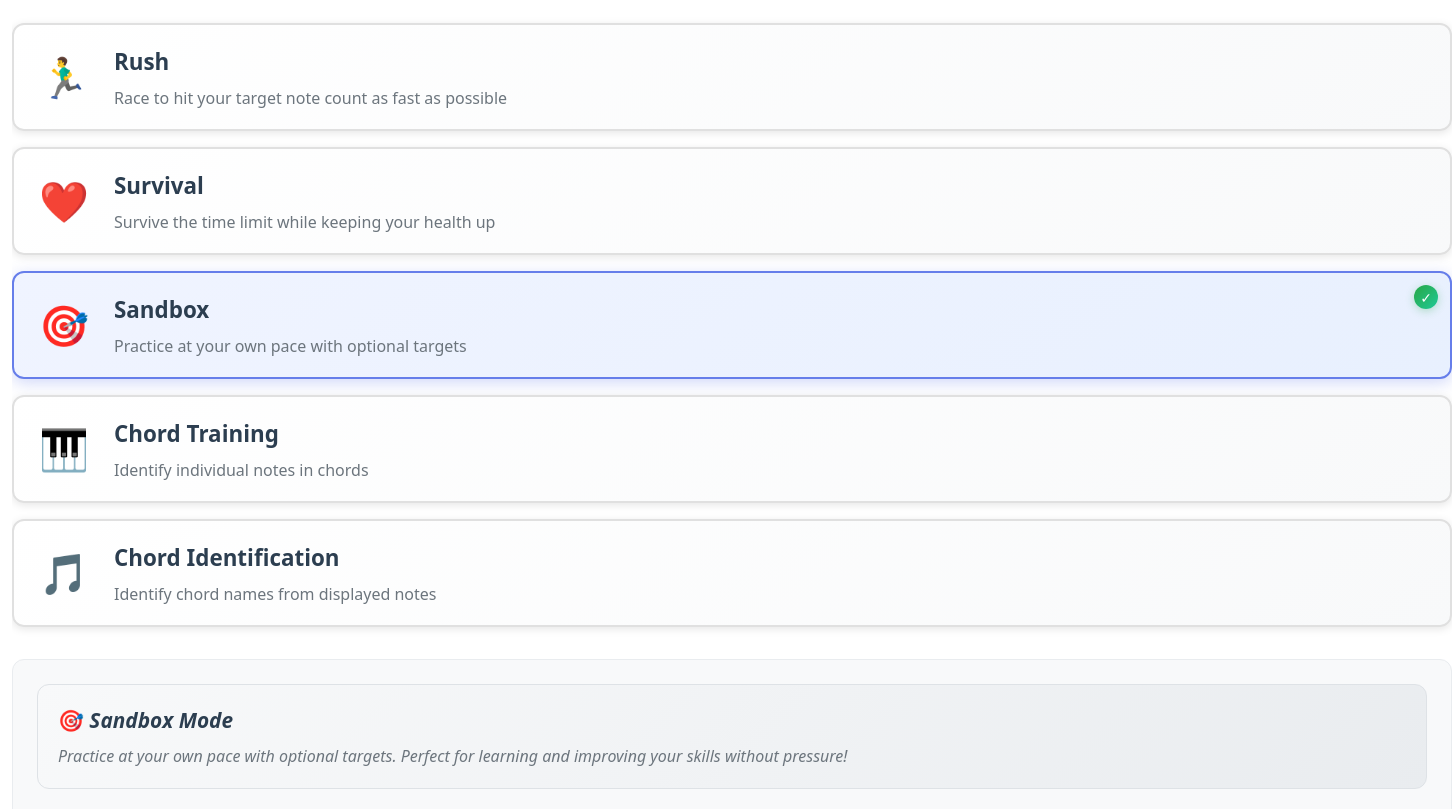
Test case: Training Type Switching Integration Test › Cross-Training Type Switching › should switch from Chord Training (note-training) to Rush (ear-training)
Click the text "Chord Training". click: (732, 449)
box: [12, 395, 1451, 503]
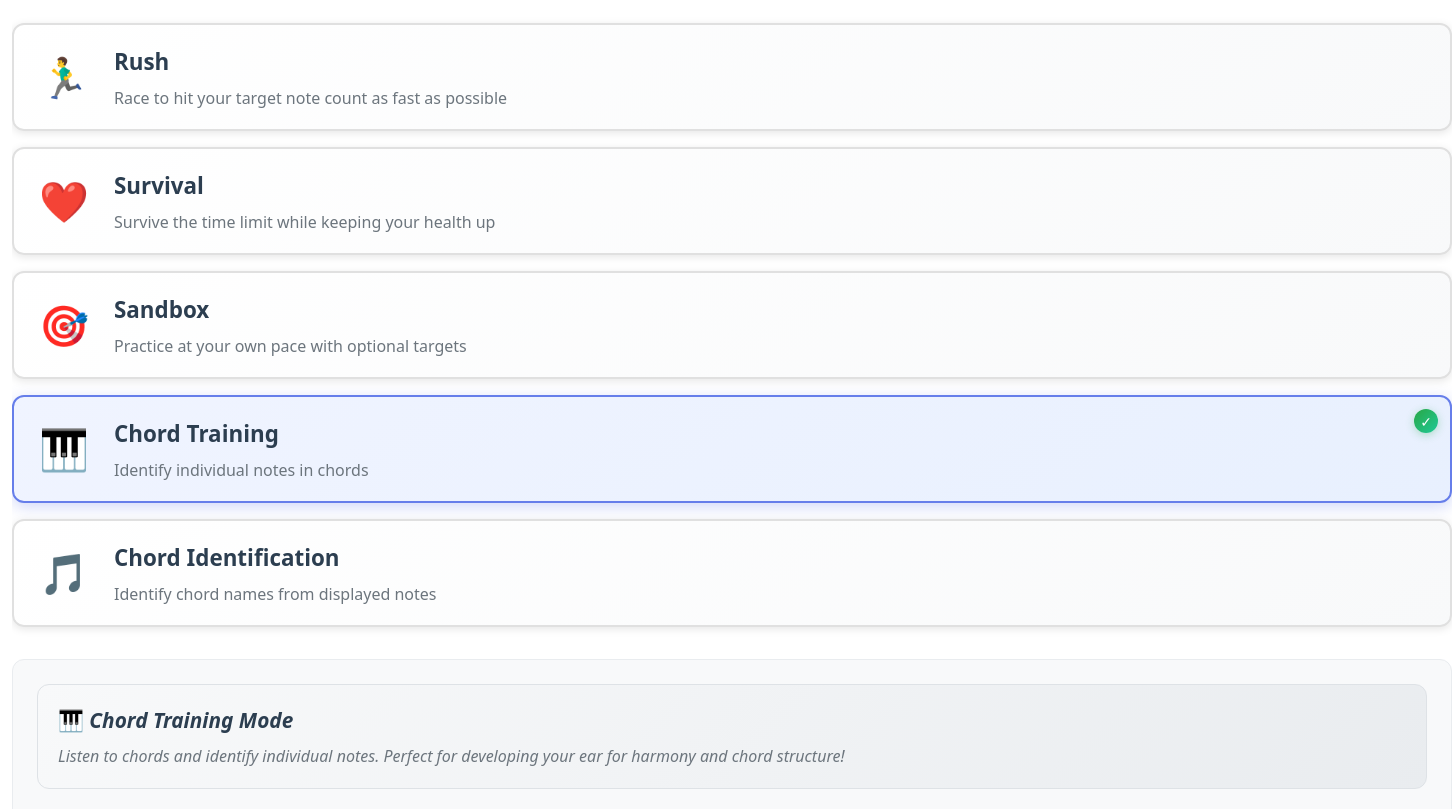
Click the text "Rush". click: (732, 77)
box: [12, 23, 1451, 131]
(page scrolled)
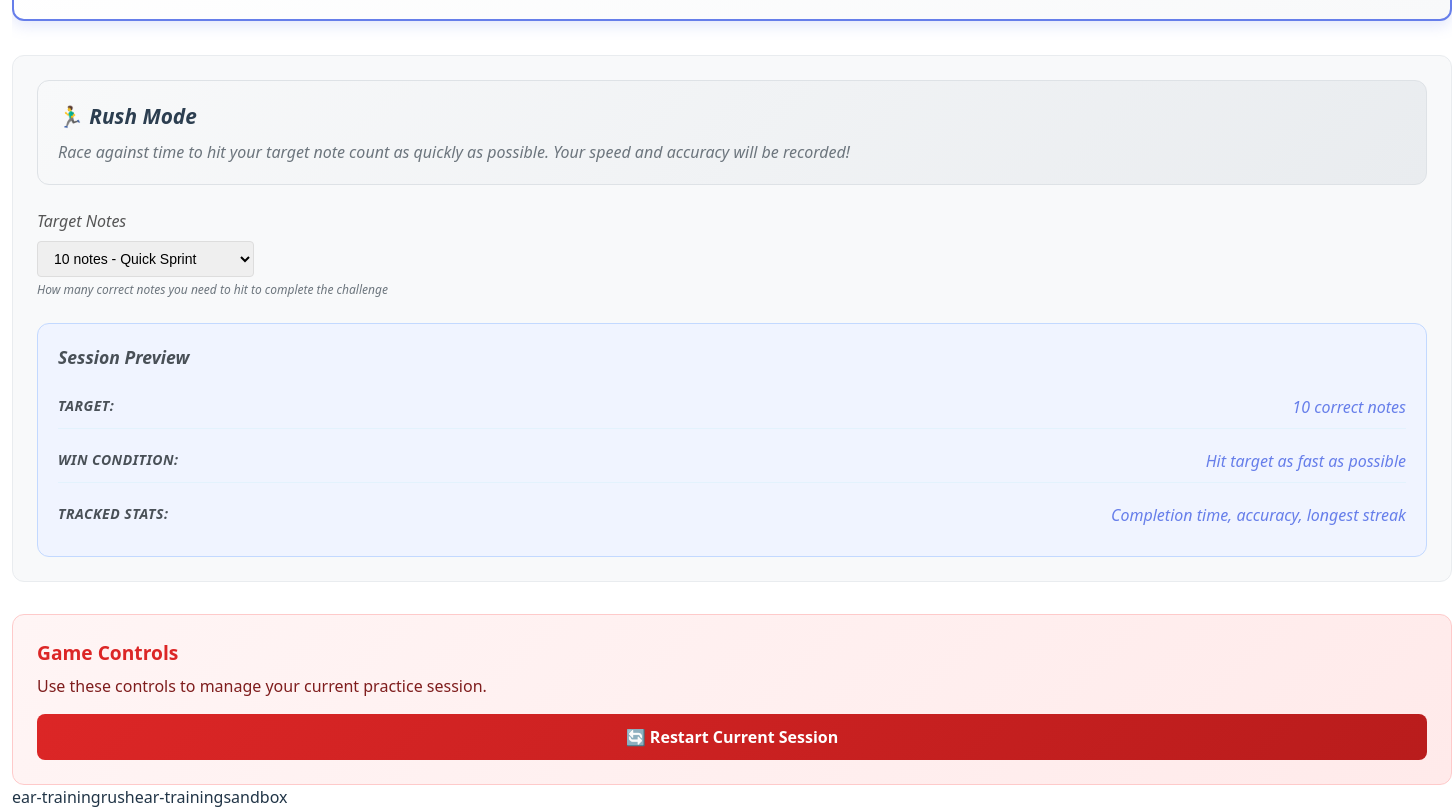
Now the text with test id "pending-selected-mode" reads "rush", box [101, 786, 135, 808]
Now the text with test id "pending-training-type" reads "ear-training", box [12, 786, 101, 808]
